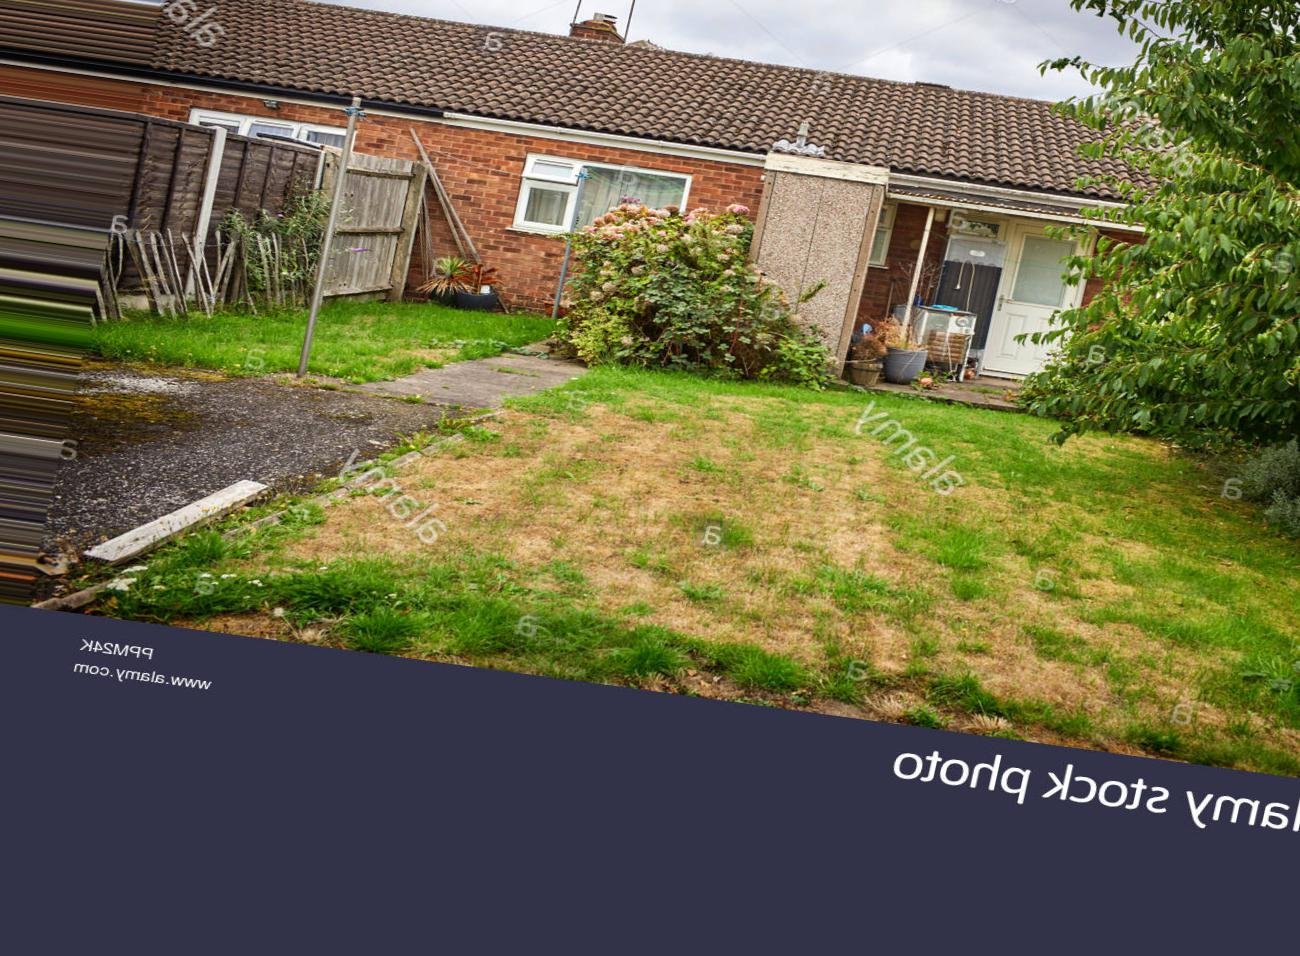patch: (743, 462, 879, 538), (561, 454, 661, 507), (976, 654, 1074, 696), (425, 470, 514, 513), (617, 564, 673, 614), (629, 425, 716, 456), (757, 605, 814, 651), (867, 613, 905, 663)
